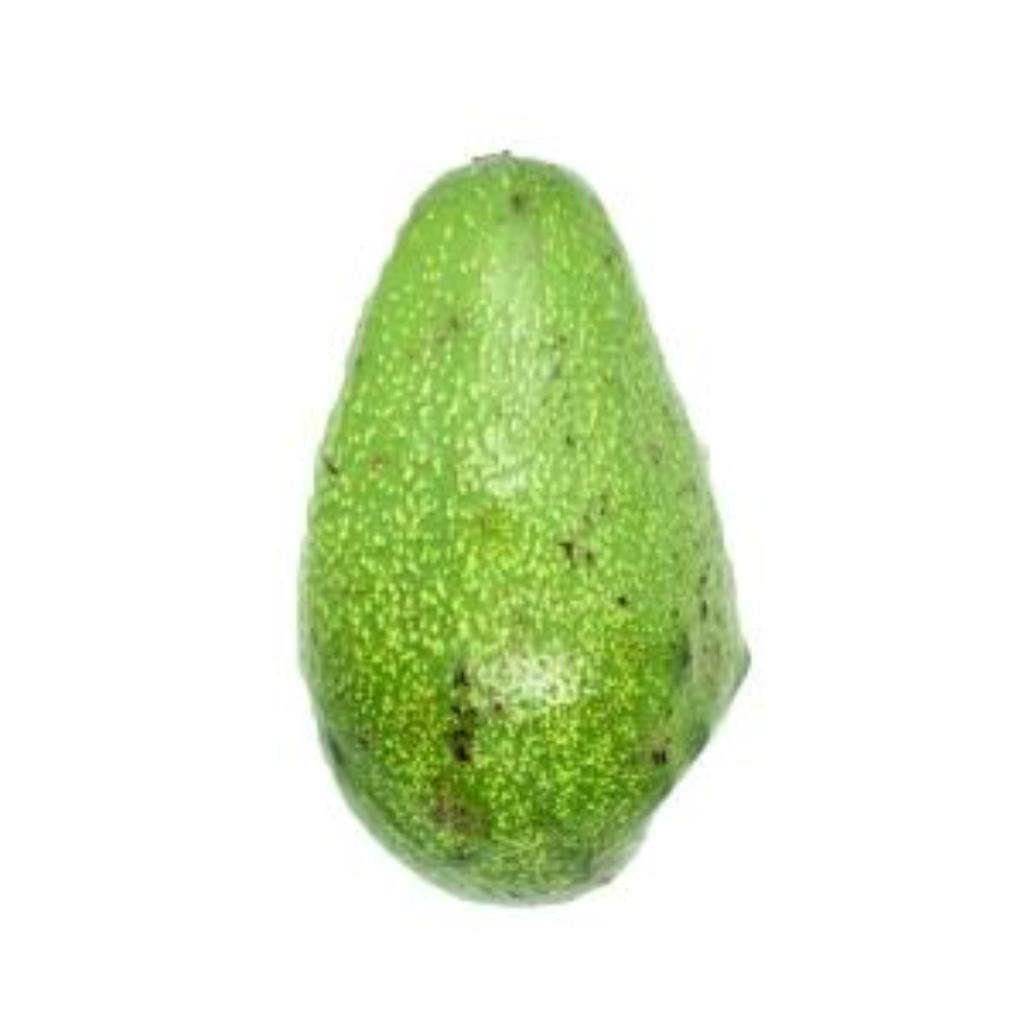cercospora_spot: (280, 101, 778, 927)
